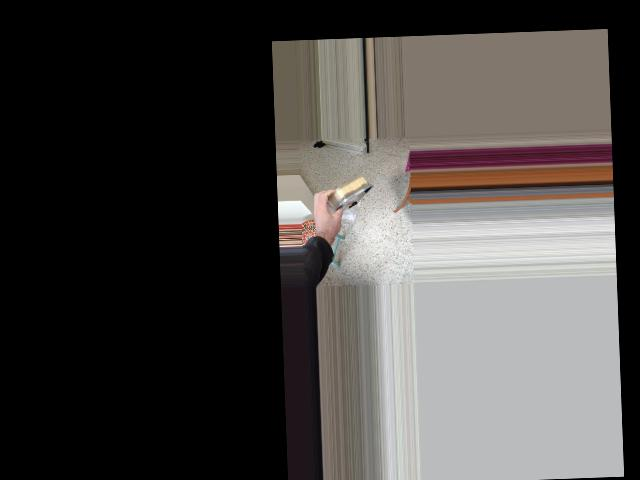cheese: (303, 166, 376, 225)
